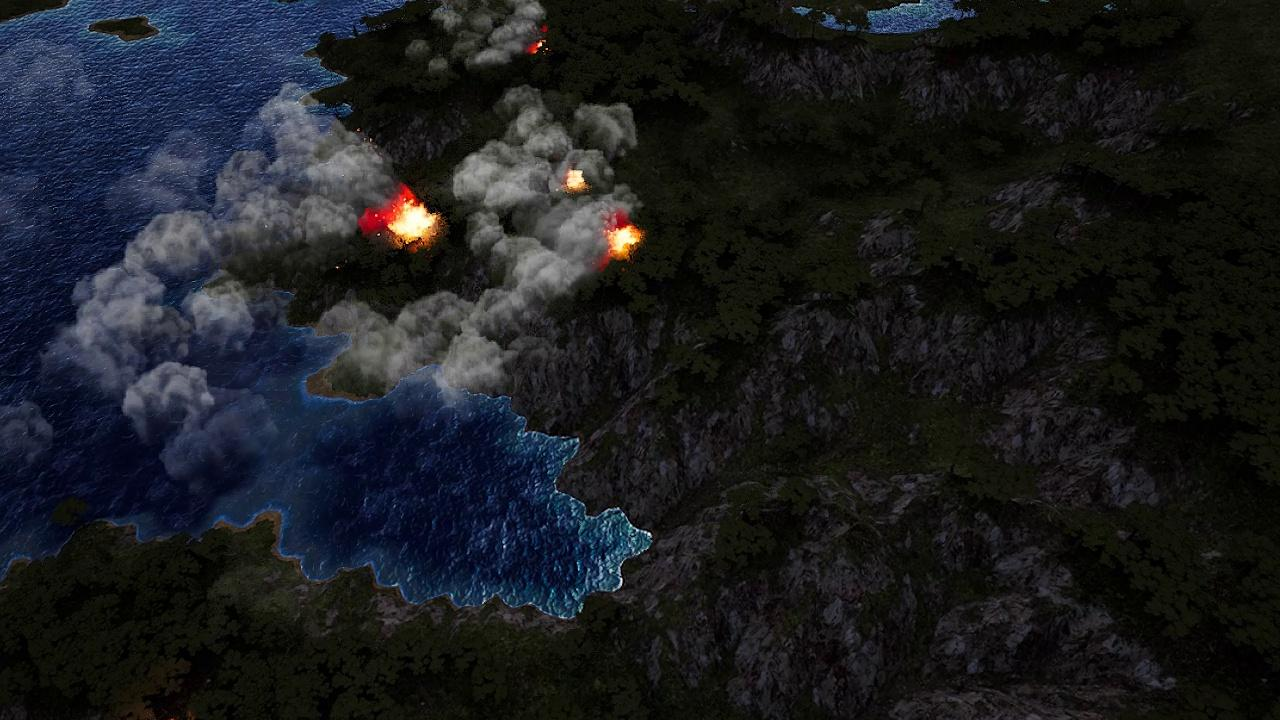fire: (377, 189, 439, 246), (607, 223, 644, 263), (559, 166, 589, 198), (529, 36, 551, 57)
smoke: (48, 77, 643, 479), (404, 0, 551, 80)
